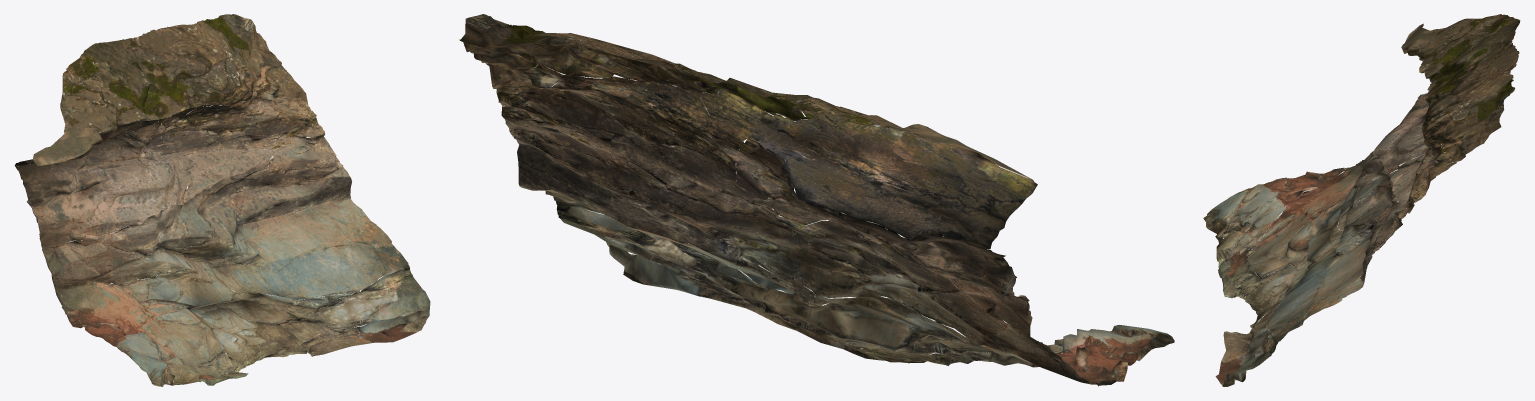
The model's file is rock_face_01_LOD1.fbx.
3 renders of one model, left to right at view 1: azimuth 30°, elevation 25°; view 2: azimuth 150°, elevation 25°; view 3: azimuth 270°, elevation 25°, orthographic. The views are drawn at different scales.
Visible parts, largest first — view 1: rock_face_01.001; view 2: rock_face_01.001; view 3: rock_face_01.001.
Part boxes in pixels (<box>): rock_face_01.001: <box>14,14,430,386</box>; rock_face_01.001: <box>459,14,1174,386</box>; rock_face_01.001: <box>1203,14,1520,386</box>.
Size of the model in its own units: 4.95 by 3.57 by 3.83.
1 material, 1 textured.
